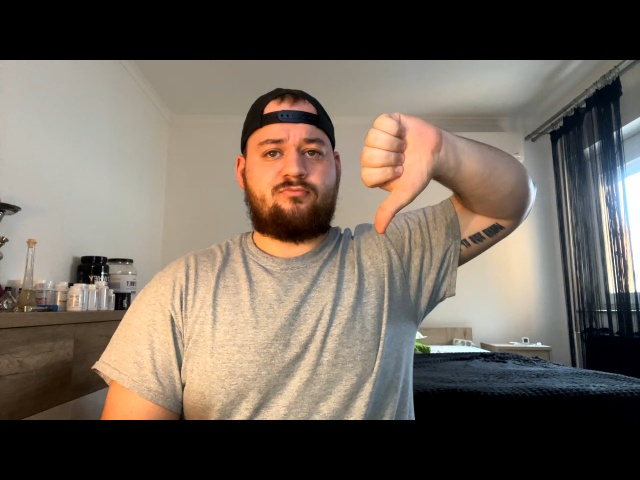ThumbsDown: (360, 112, 442, 235)
